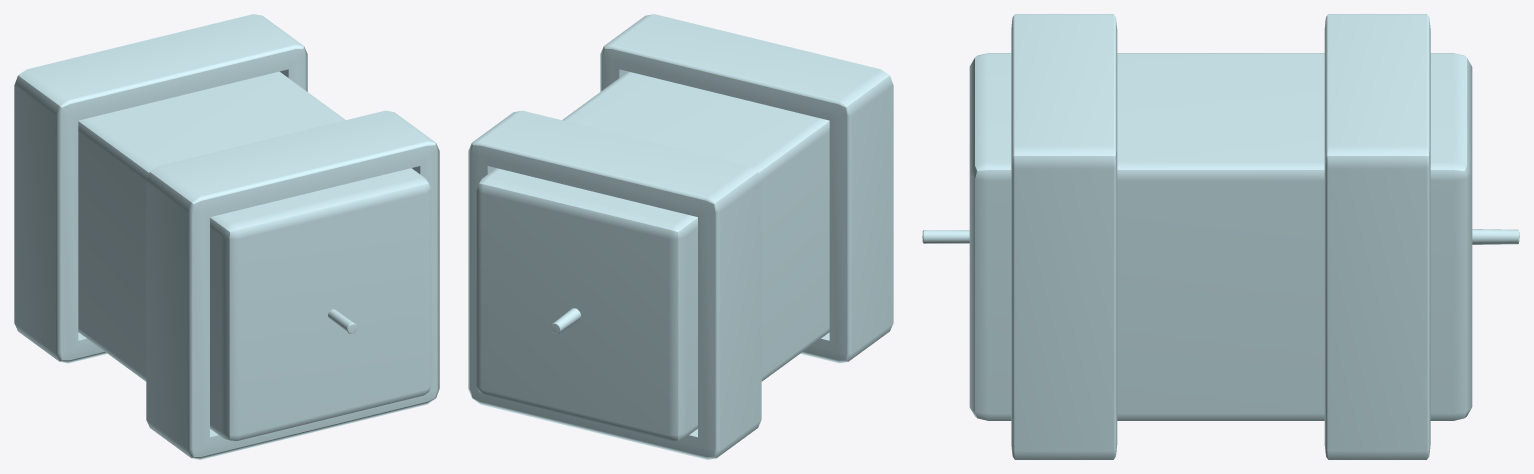
File: batt.fbx
3 views of the same model, side by side, from view 1: azimuth 30°, elevation 25°; view 2: azimuth 150°, elevation 25°; view 3: azimuth 270°, elevation 25° (orthographic). The views are drawn at different scales.
Parts seen in each view (by area): view 1: casing, batt05; view 2: casing, batt05; view 3: casing, batt05.
Part boxes in pixels (x1=…): casing: x1=78, y1=71, x2=431, y2=440; batt05: x1=14, y1=14, x2=439, y2=459; casing: x1=476, y1=71, x2=829, y2=440; batt05: x1=468, y1=14, x2=893, y2=459; casing: x1=969, y1=53, x2=1472, y2=420; batt05: x1=922, y1=14, x2=1519, y2=459.
Size of the model in its own units: 1.2 by 1.2 by 2.07.
